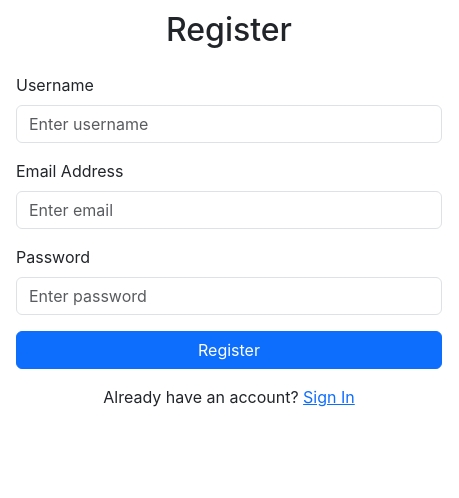
Test case: RegisterScreen (real store) › shows validation error for empty fields
Click the button "Register" at (229, 350), box left=16, top=331, right=442, bottom=369
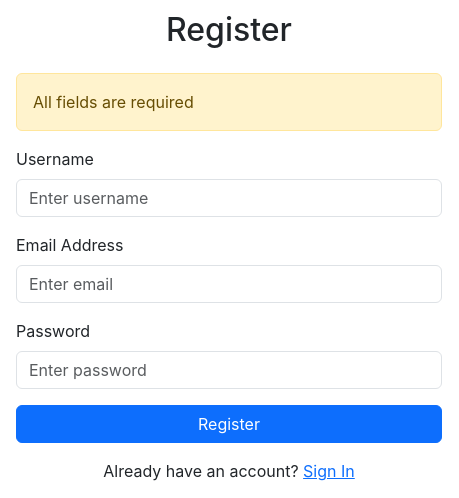
Now the text "All fields are required" is shown, box left=16, top=73, right=442, bottom=131
